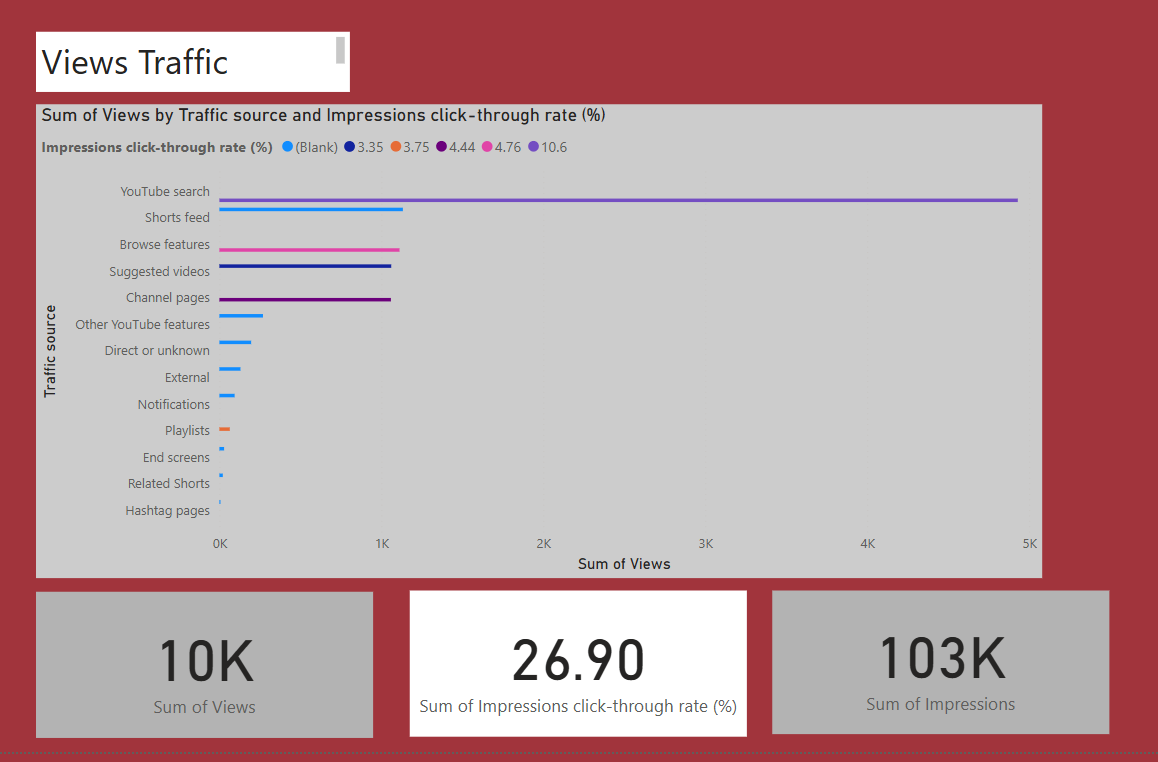

This screenshot's page, from the dashboard's own definition file:
{"tool":"powerbi","page":{"name":"Traffic Source","canvas":[1280,720],"ordinal":2},"visuals":[{"type":"clusteredBarChart","fields":{"Category":["Traffic.Traffic source"],"Y":["Sum(Traffic.Views)"],"Series":["Traffic.Impressions click-through rate (%)"]},"box":[134.9,117.4,936,440.7],"z":0},{"type":"card","fields":{"Values":["Sum(Traffic.Views)"]},"box":[134.9,570.9,314,136],"z":1000},{"type":"card","fields":{"Values":["Sum(Traffic.Impressions click-through rate (%))"]},"box":[482.6,569.8,314,136],"z":2000},{"type":"card","fields":{"Values":["Sum(Traffic.Impressions)"]},"box":[819.8,569.8,314,133.7],"z":3000},{"type":"textbox","box":[134.9,50,291.9,55.8],"z":4000}]}

Visuals, with their boxes on the page's 1280x720 design canvas (x1, y1, x2, y2). These are canvas units, not pixel positions in the 1158x762 screenshot, which may show the page scaled, cropped or inside an application window:
clusteredBarChart - Traffic.Traffic source x Sum(Traffic.Views): left=135, top=117, right=1071, bottom=558
card - Sum(Traffic.Views): left=135, top=571, right=449, bottom=707
card - Sum(Traffic.Impressions click-through rate (%)): left=483, top=570, right=797, bottom=706
card - Sum(Traffic.Impressions): left=820, top=570, right=1134, bottom=704
textbox: left=135, top=50, right=427, bottom=106
